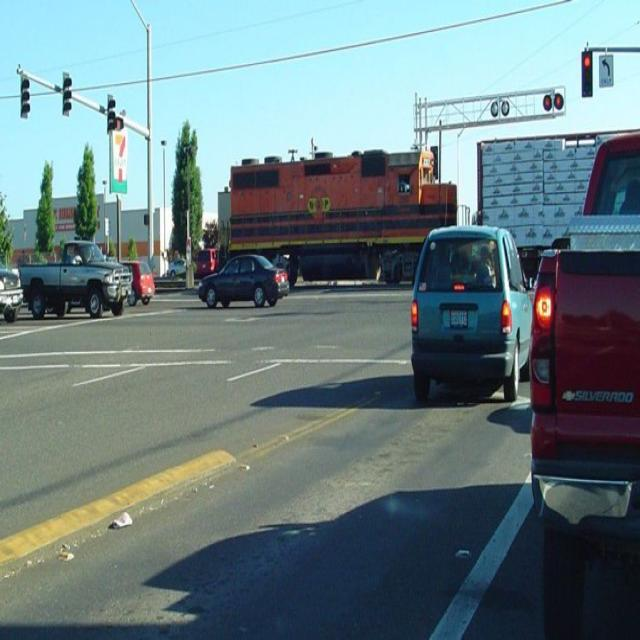off traffic light: (100, 92, 124, 132), (15, 74, 32, 117), (62, 74, 73, 118)
traffic light: (580, 49, 595, 96)
